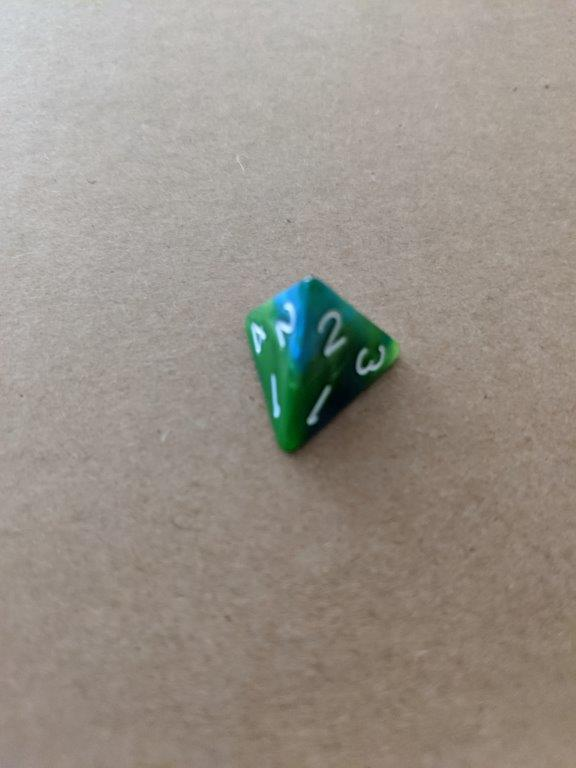d4-2: (242, 270, 405, 457)
